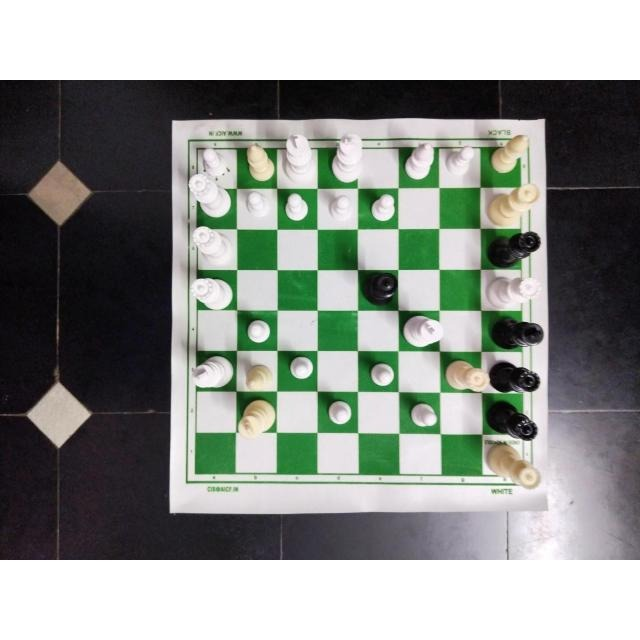black-king: (489, 316, 543, 350)
black-queen: (487, 400, 539, 440), (487, 231, 541, 267), (489, 361, 541, 393), (360, 271, 398, 307)
white-bishop: (491, 134, 529, 174), (244, 143, 276, 181), (405, 142, 435, 181), (244, 364, 272, 392)
white-king: (284, 132, 316, 182), (332, 131, 362, 182), (238, 398, 276, 437), (191, 355, 235, 388), (402, 314, 442, 348)
white-pawn: (444, 145, 476, 177), (200, 147, 227, 177), (285, 354, 314, 381), (283, 192, 309, 222), (328, 194, 355, 221), (244, 190, 270, 218), (245, 318, 273, 344), (409, 402, 437, 428), (368, 361, 395, 387), (326, 399, 352, 426), (371, 193, 395, 222)
white-queen: (486, 443, 541, 495), (487, 183, 541, 227), (485, 274, 542, 310), (188, 174, 232, 218), (191, 224, 233, 266), (443, 359, 491, 395), (191, 274, 233, 310)
